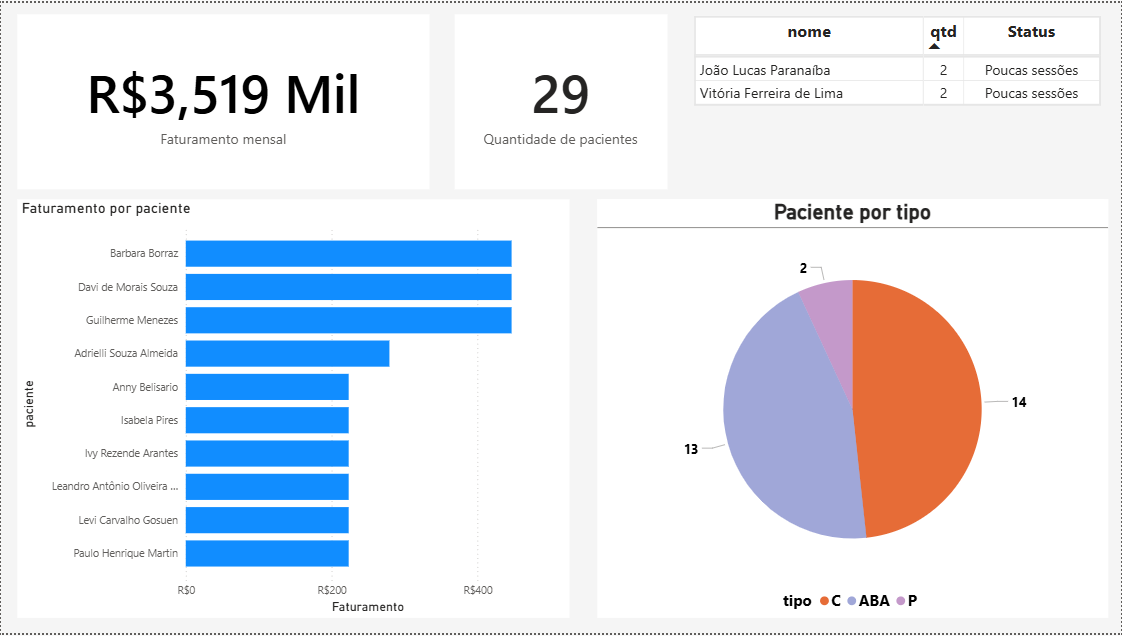

What the dashboard file says about the page in this screenshot:
{"tool":"powerbi","page":{"name":"Página 1","canvas":[1280,720],"ordinal":0},"visuals":[{"type":"cardVisual","fields":{"Data":["Página1.Faturamento"]},"box":[18.6,12.9,471.4,200],"z":0},{"type":"barChart","fields":{"Y":["Página1.Faturamento"],"Category":["Página1.nome"]},"box":[18.6,224.3,631.4,478.6],"z":1000},{"type":"pieChart","title":"Paciente por tipo","fields":{"Category":["Página1.tipo"],"Y":["CountNonNull(Página1.nome)"]},"box":[681,223.8,583.8,478.8],"z":2000},{"type":"cardVisual","fields":{"Data":["Count(Página1.nome)"]},"box":[518.6,12.9,242.9,200],"z":3000},{"type":"tableEx","fields":{"Values":["Página1.nome","Sum(Página1.qtd)","Página1.Status"]},"box":[785.7,10,480,195.7],"z":4000}]}

Visuals, with their boxes in screenshot pixels (x1, y1, x2, y2), scaled from the page's 1280x720 canvas onto the 1122x636 screenshot:
cardVisual - Página1.Faturamento: [16, 11, 430, 188]
barChart - Página1.Faturamento x Página1.nome: [16, 198, 570, 621]
"Paciente por tipo" pieChart: [597, 198, 1109, 621]
cardVisual - Count(Página1.nome): [455, 11, 668, 188]
tableEx - Página1.nome x Sum(Página1.qtd): [689, 9, 1109, 182]
